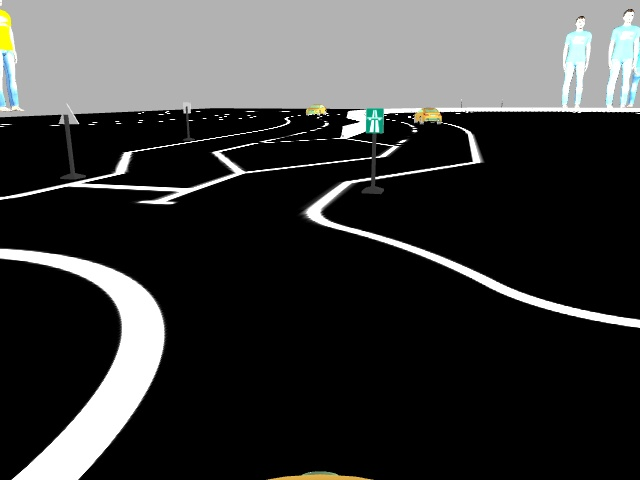HighwayEntrance: (363, 107, 384, 135)
